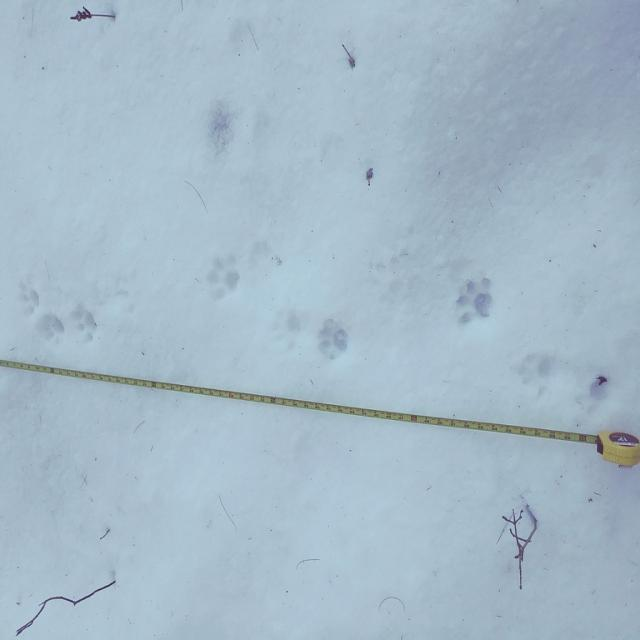felid: (456, 276, 498, 325), (207, 249, 244, 302), (319, 322, 350, 366), (520, 349, 552, 390), (70, 301, 99, 343), (17, 285, 39, 320), (43, 314, 63, 340)
